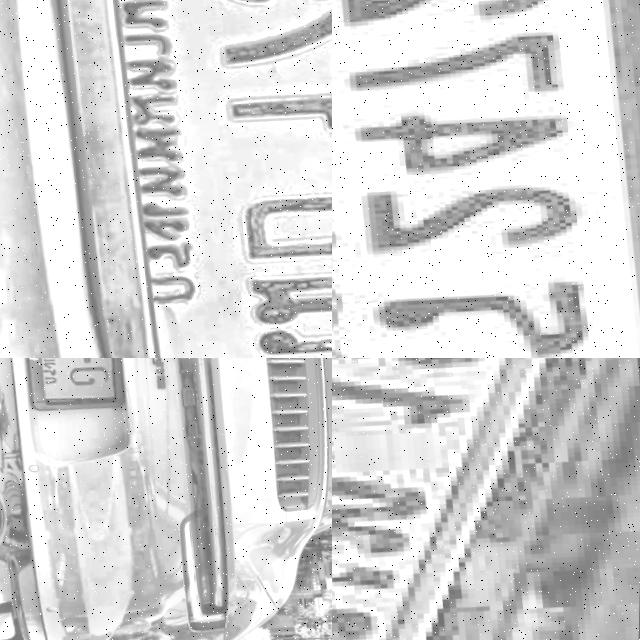license-plate: (0, 0, 332, 358), (332, 0, 640, 358), (332, 358, 640, 640), (6, 358, 140, 417)
